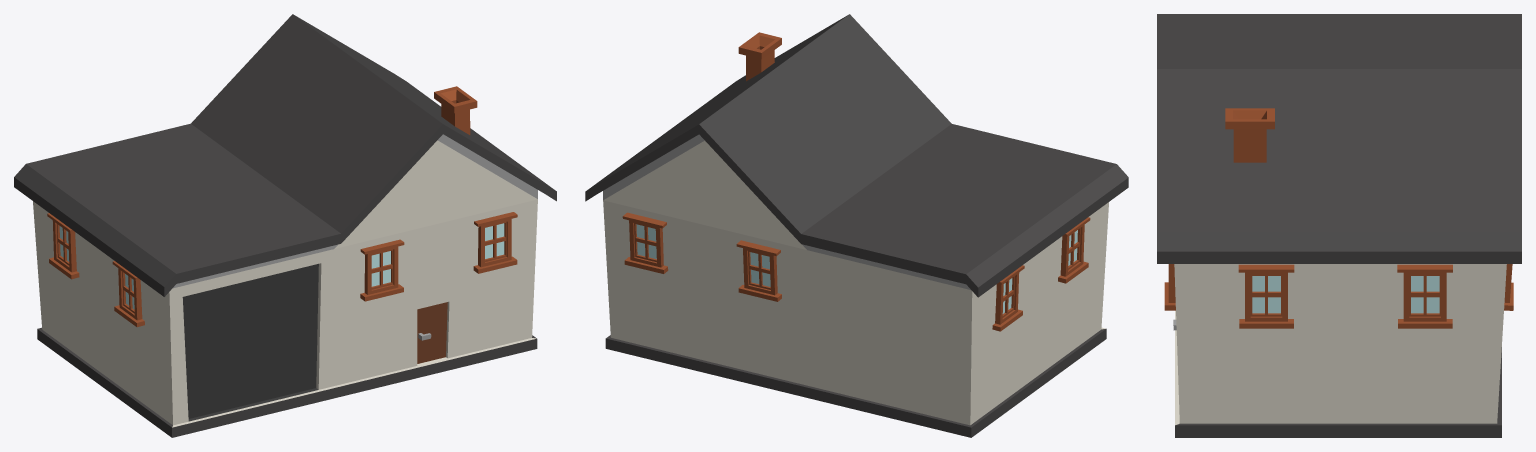
The model's file is House4.glb.
3 renders of one model, left to right at view 1: azimuth 30°, elevation 25°; view 2: azimuth 150°, elevation 25°; view 3: azimuth 270°, elevation 25°, orthographic. The views are drawn at different scales.
Parts seen in each view (by area): view 1: House4; view 2: House4; view 3: House4.
Boxes of the visible parts, x1=… form: House4: x1=14, y1=14, x2=556, y2=437; House4: x1=585, y1=14, x2=1128, y2=437; House4: x1=1157, y1=14, x2=1521, y2=437.
Bounding box in the file's own units: 2.16 × 1.34 × 1.44.
1 material, 1 textured.
